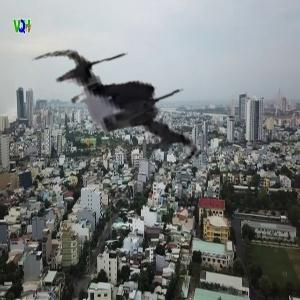drone: (46, 21, 214, 189)
